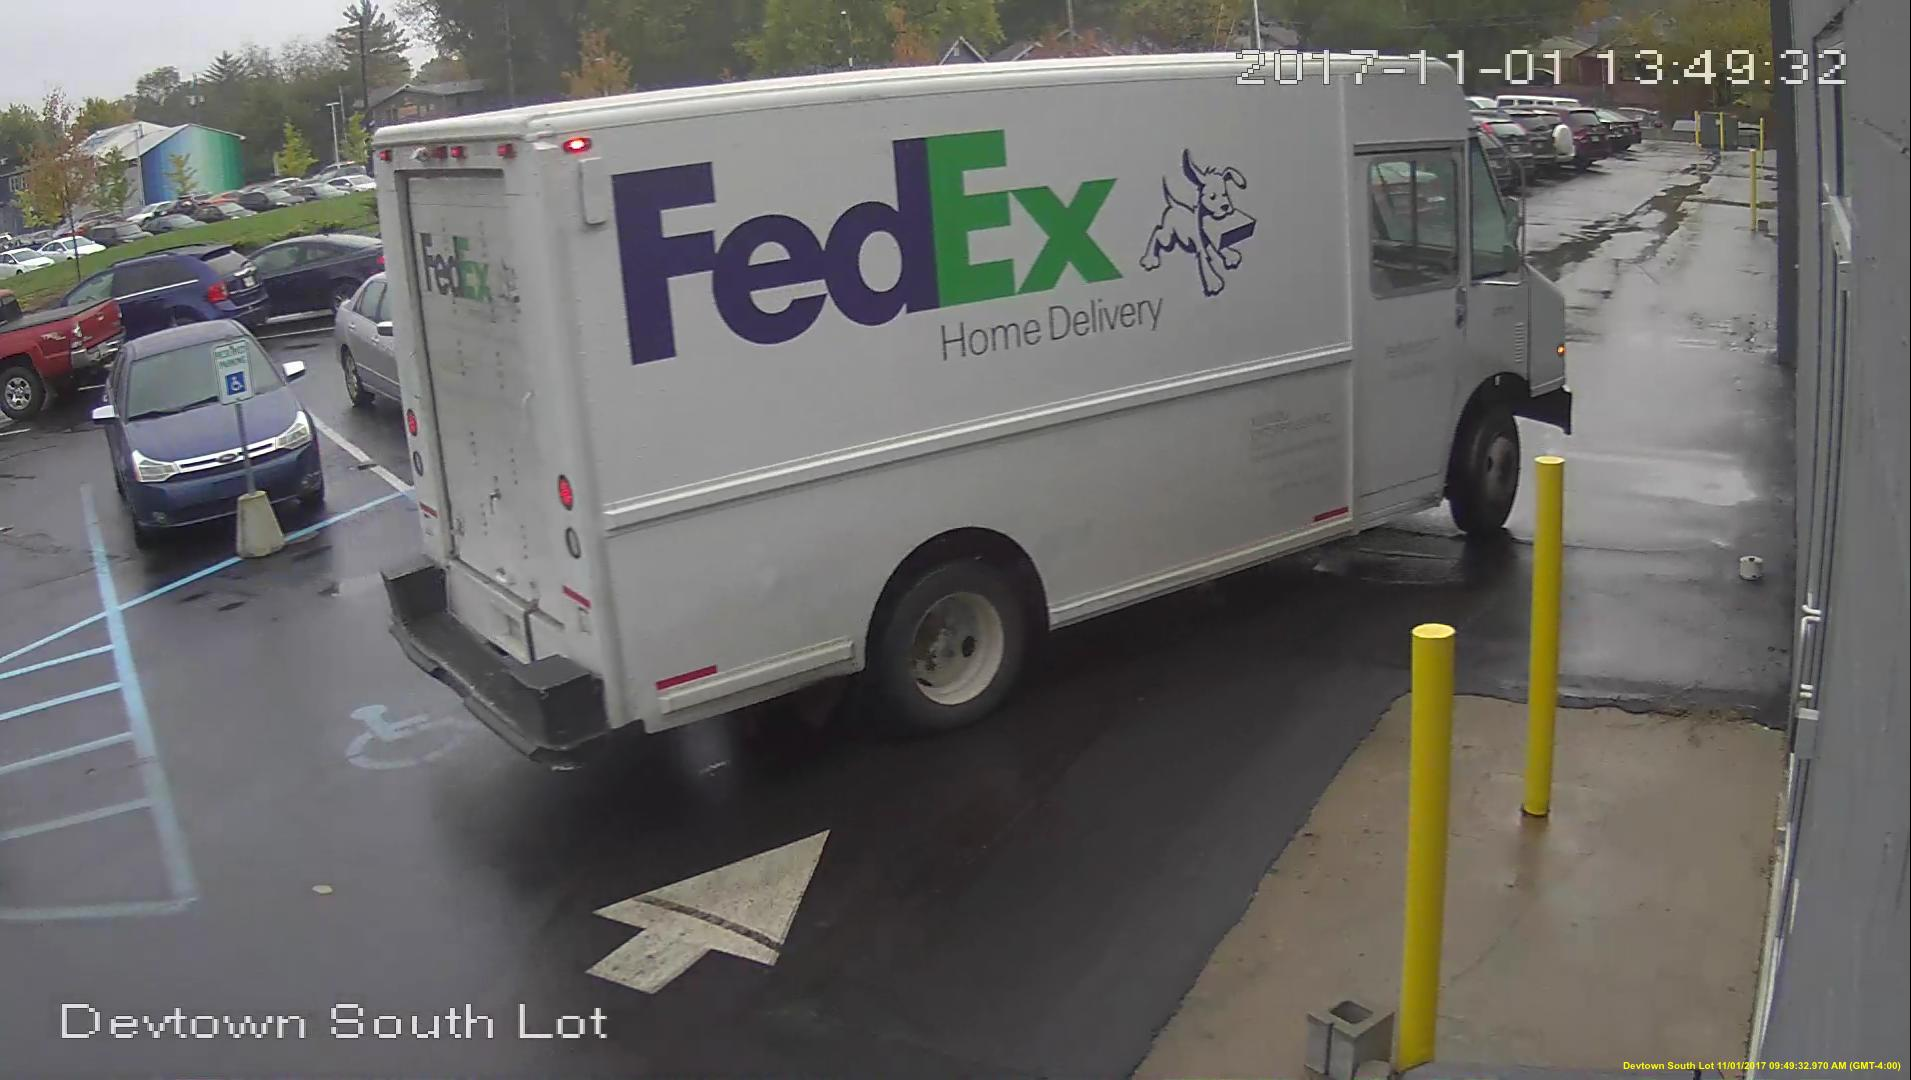fedex_truck: (381, 52, 1578, 765)
